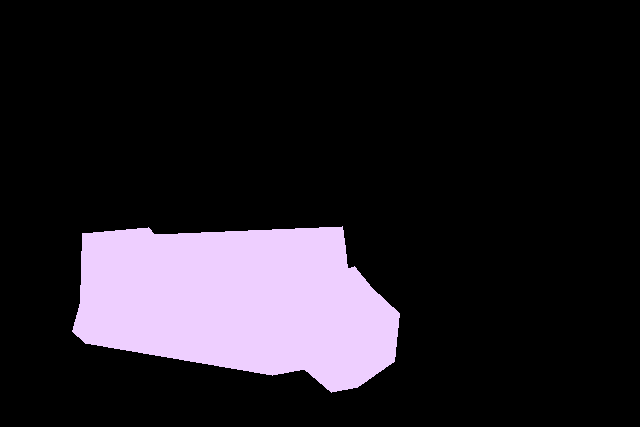Train: (72, 226, 400, 393)
